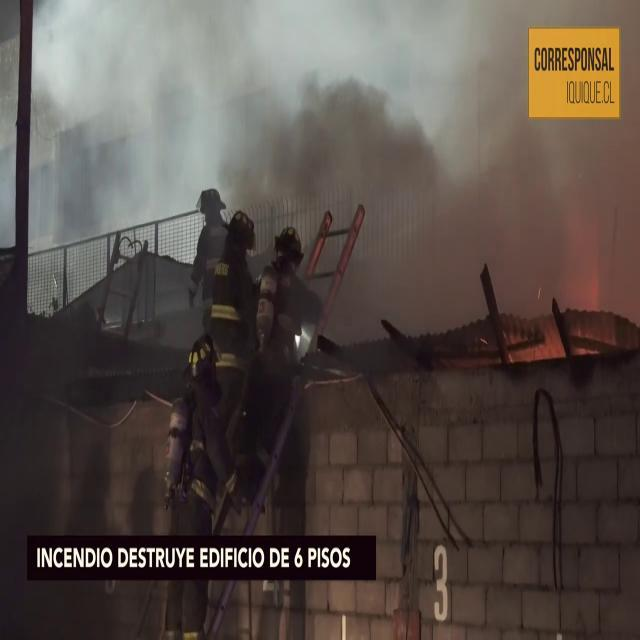Smoke: (39, 1, 629, 263)
